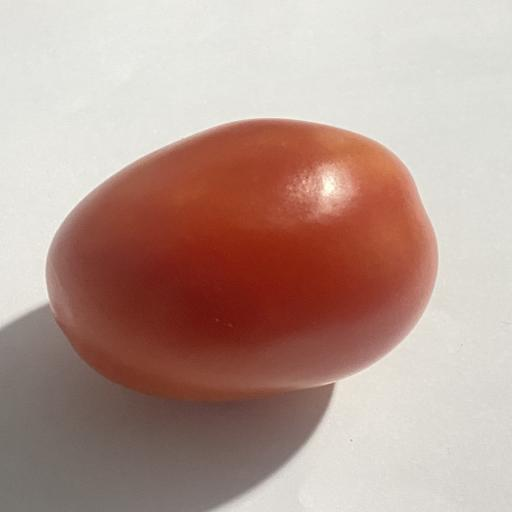ripe: (46, 119, 437, 400)
